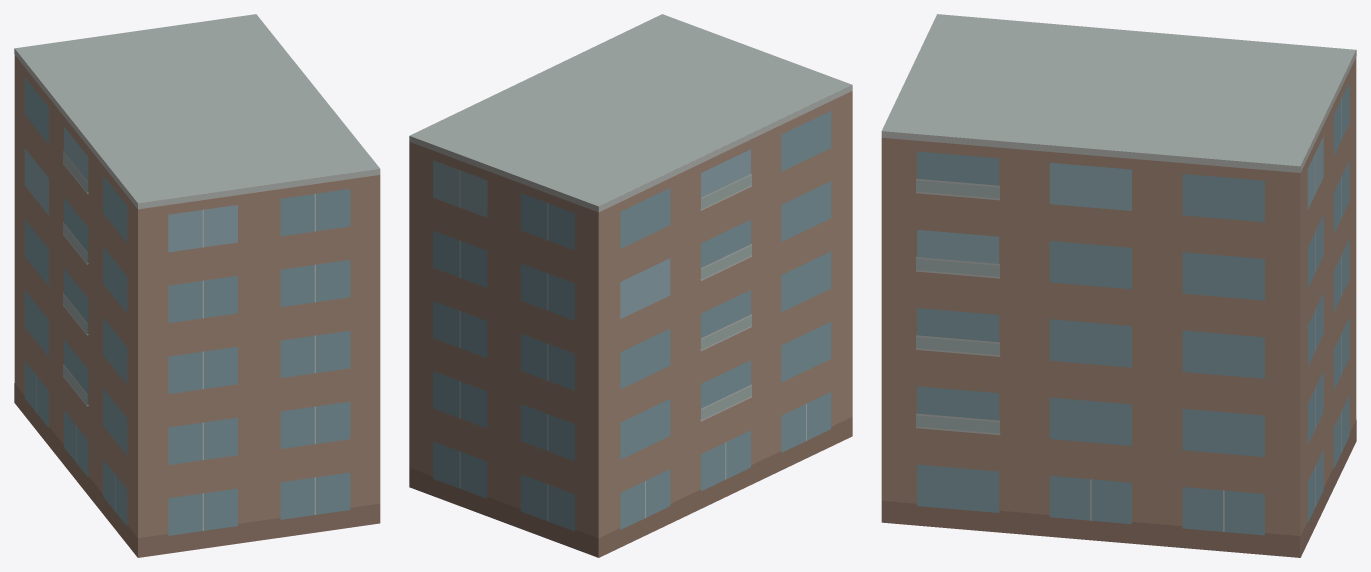
File: survey-upis-32893391.glb
3 views of the same model, side by side, from view 1: azimuth 30°, elevation 25°; view 2: azimuth 150°, elevation 25°; view 3: azimuth 270°, elevation 25° (orthographic). The views are drawn at different scales.
Parts seen in each view (by area): view 1: survey-upis-32893391.tmp; view 2: survey-upis-32893391.tmp; view 3: survey-upis-32893391.tmp.
Part boxes in pixels (x1,y1,x2,y2): survey-upis-32893391.tmp: (14, 14, 380, 557); survey-upis-32893391.tmp: (409, 14, 852, 557); survey-upis-32893391.tmp: (881, 14, 1356, 557).
Bounding box in the file's own units: 12.12 × 14.5 × 15.95.
